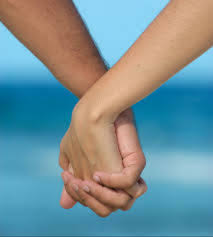hand: (44, 92, 162, 217)
